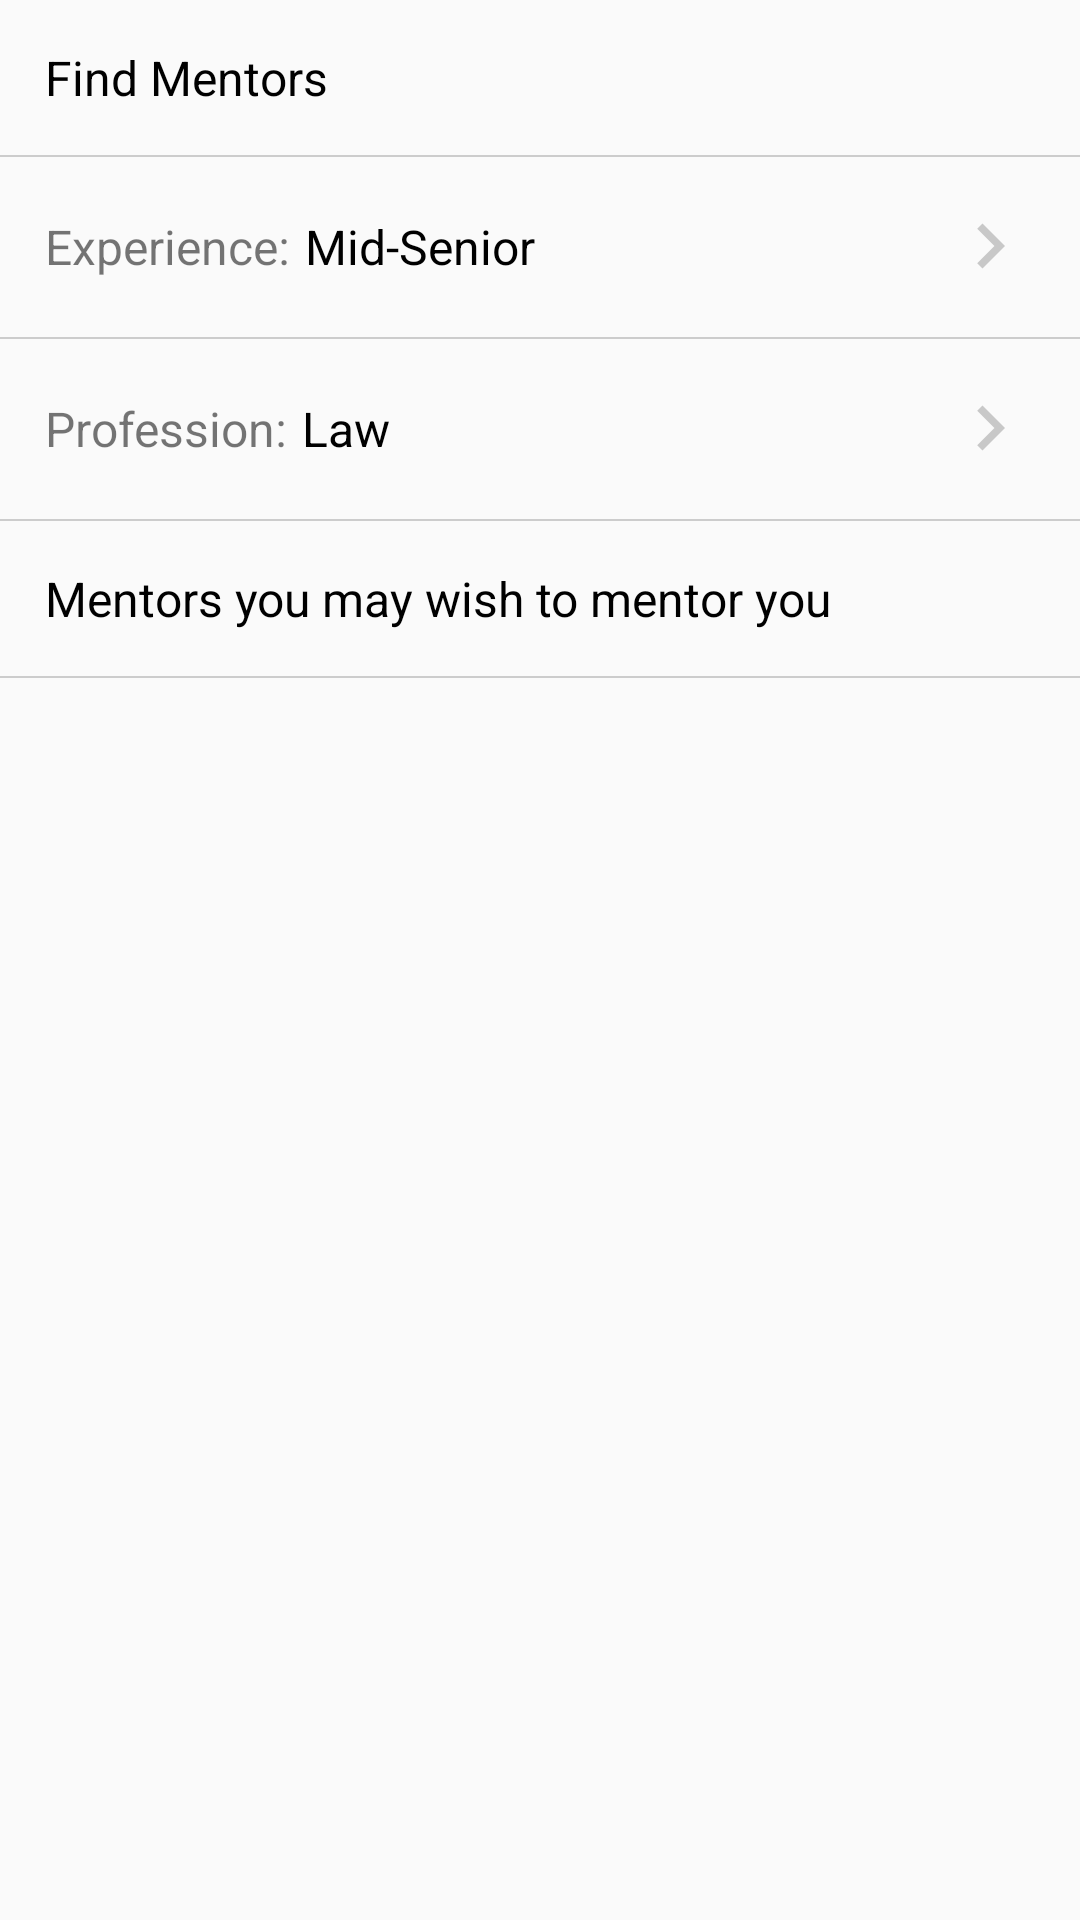

Screen size 1080px×1920px. Icon name, then its center in pixels as point (x, y):
keyboard arrow right: point (991, 246), point (991, 428)
